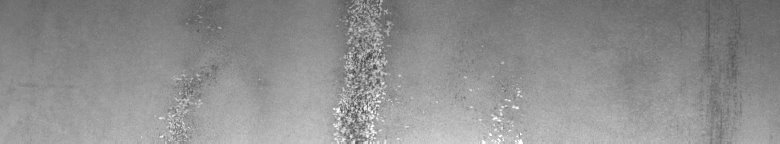hc: (327, 4, 401, 136)
